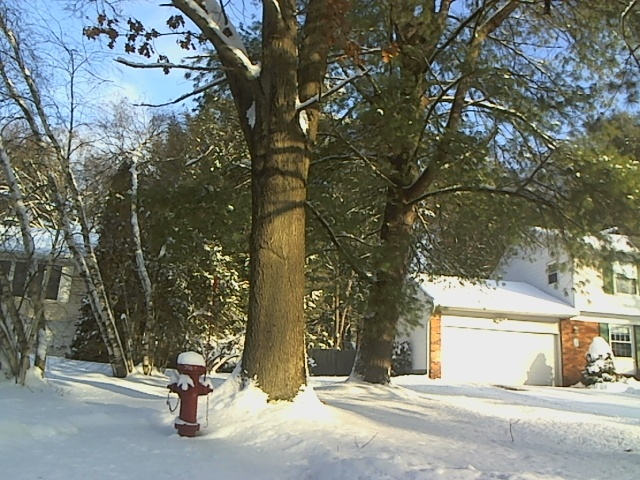Unploughed: (464, 366, 637, 417)
